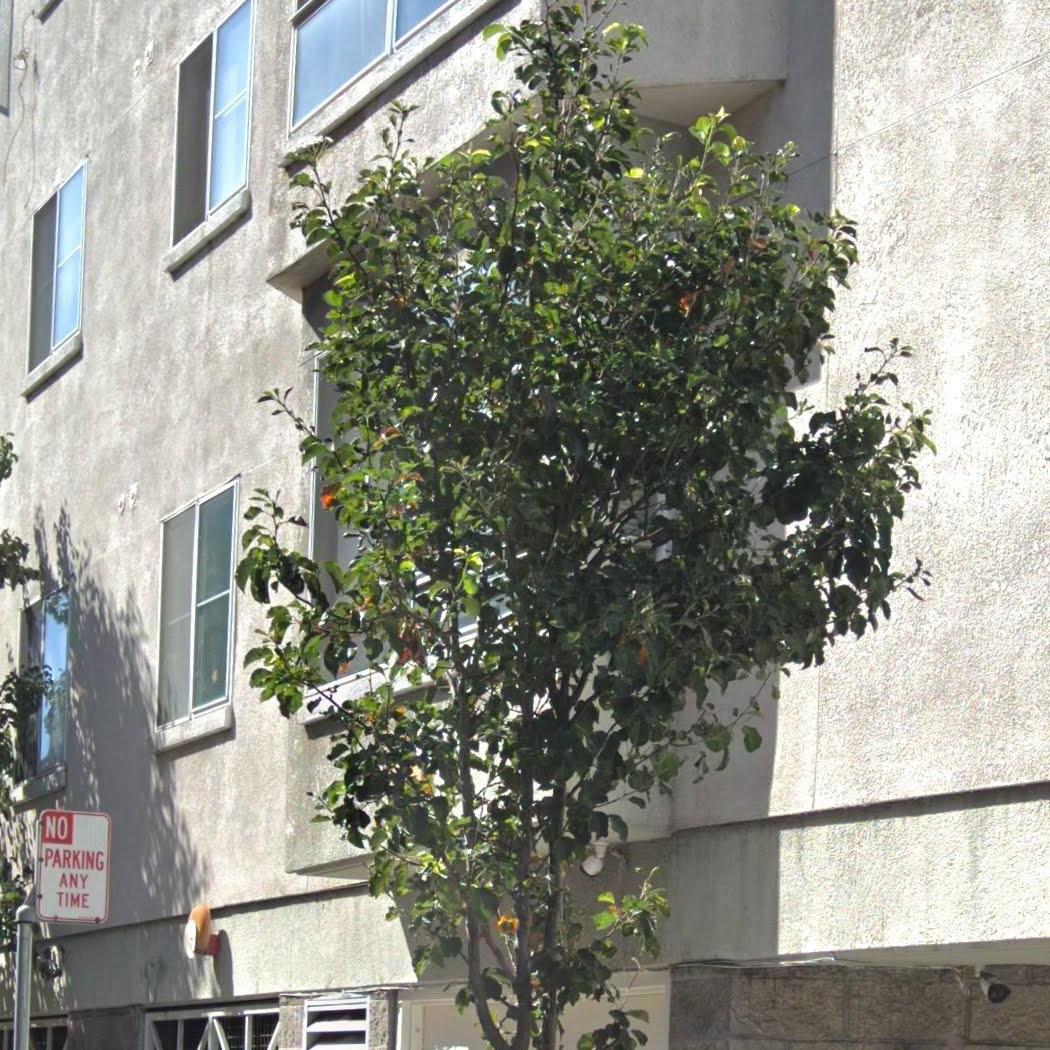No Parking Anytime: (34, 808, 112, 925)
